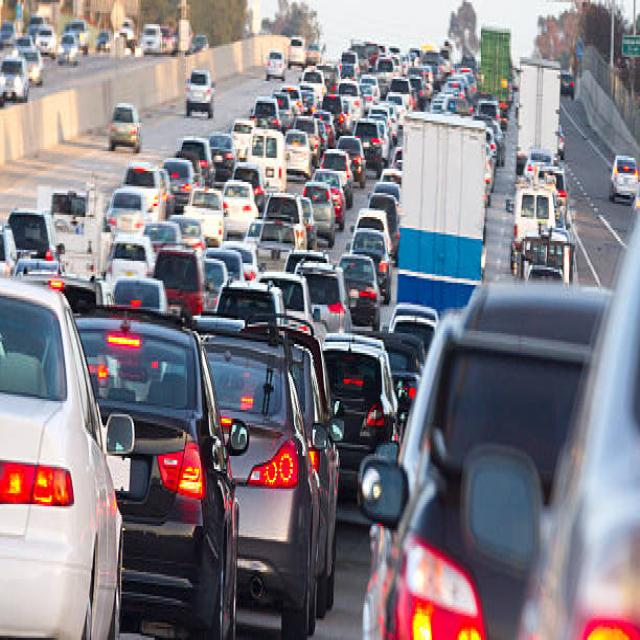Car: (356, 278, 614, 638), (73, 304, 244, 638), (516, 202, 639, 638), (190, 313, 343, 638), (0, 274, 123, 638), (108, 101, 141, 153), (185, 68, 214, 118), (609, 154, 639, 202), (561, 70, 575, 99)
Truck: (396, 110, 488, 318)
